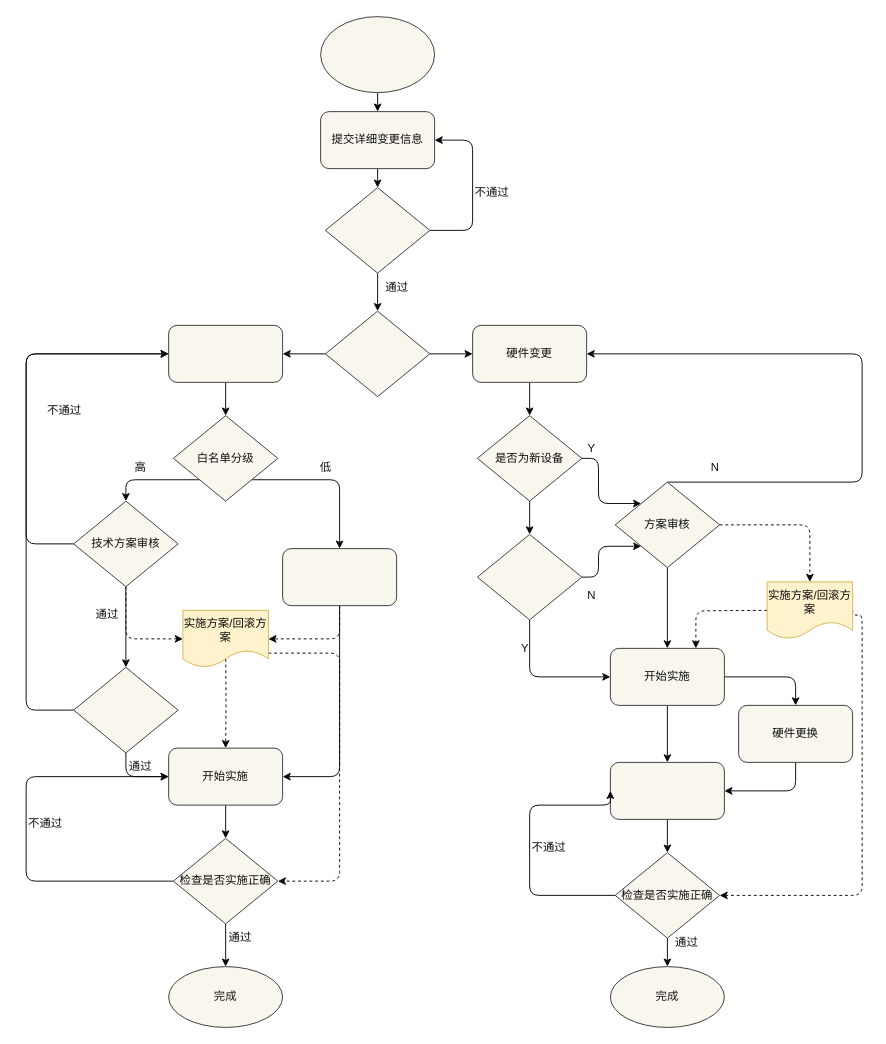
This 886x1044 diagram has some shape labels left out. The shapes that lost their labels are listed below. From the top down, each one's centre as x and y in pixels, then its label:
the point at 377,54: 开始变更
the point at 377,230: 初步审核
the point at 225,353: 软件变更
the point at 377,353: 确定变更类型
the point at 339,577: 负责人编写改动方案
the point at 529,576: 是否为同型号设备
the point at 125,709: 三博方案审核
the point at 666,790: 软件适配
